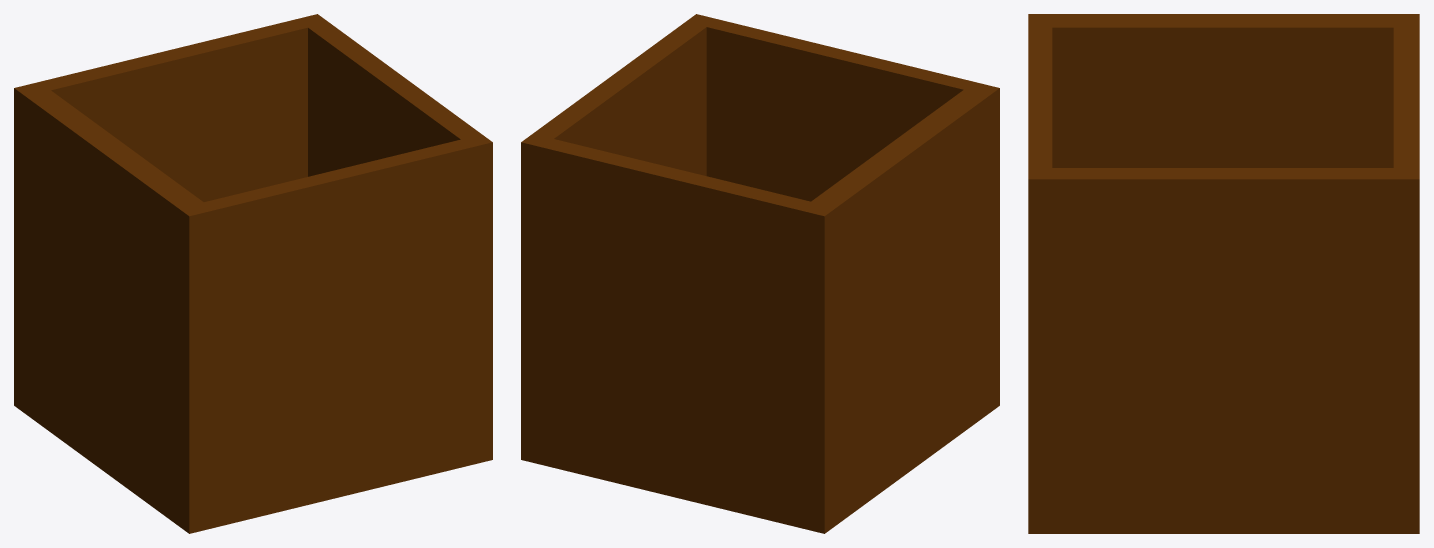
The model's file is Caja.fbx.
3 views of the same model, side by side, from view 1: azimuth 30°, elevation 25°; view 2: azimuth 150°, elevation 25°; view 3: azimuth 270°, elevation 25° (orthographic). The views are drawn at different scales.
Parts seen in each view (by area): view 1: Cube; view 2: Cube; view 3: Cube.
Part boxes in pixels (left/top/right/bottom): Cube: left=14, top=14, right=492, bottom=533; Cube: left=521, top=14, right=999, bottom=533; Cube: left=1028, top=14, right=1419, bottom=533.
Size of the model in its own units: 200 by 200 by 200.
